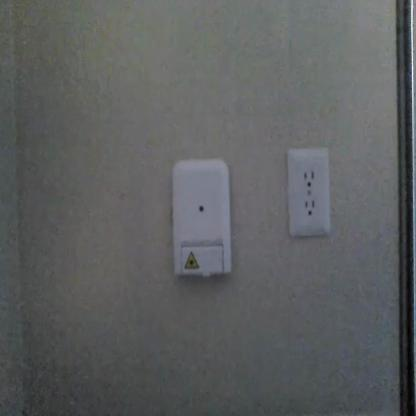OUTLET: (288, 147, 331, 237)
